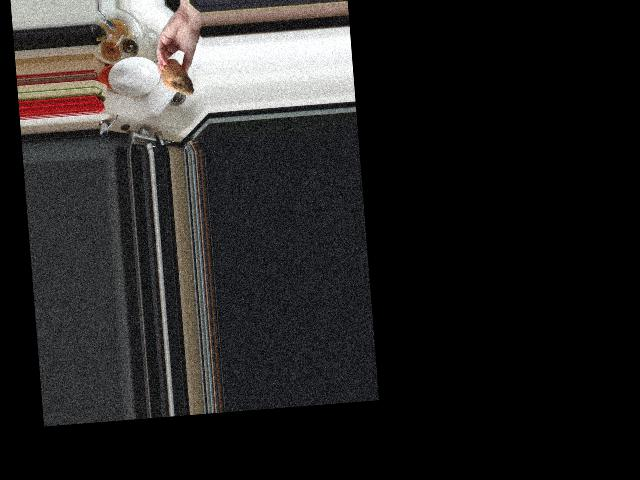sweet_potato: (159, 57, 197, 97)
